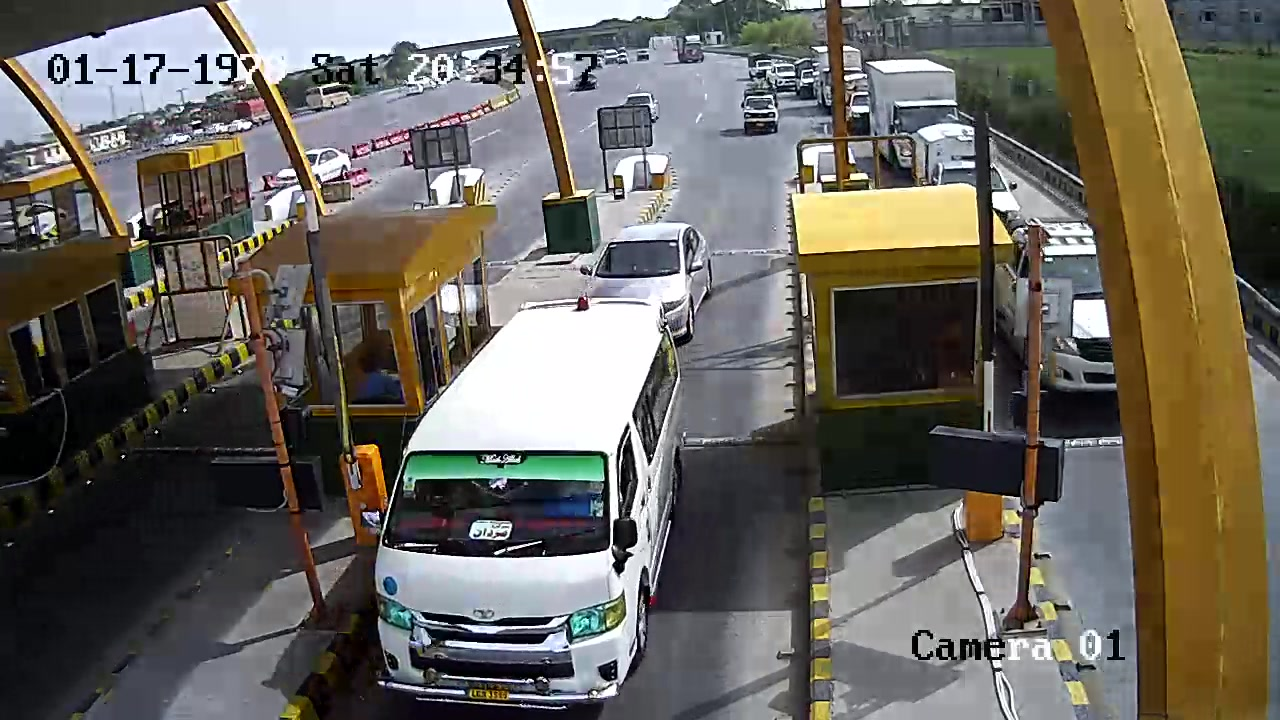F3: (362, 295, 690, 720)
